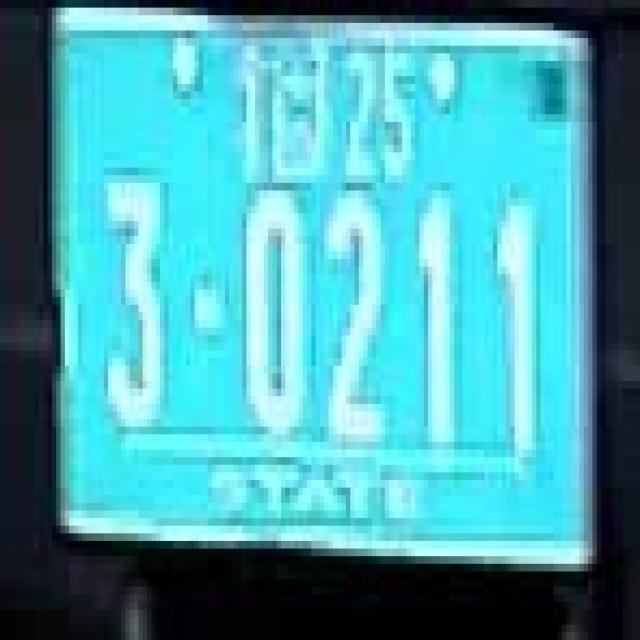State: (234, 38, 328, 189)
